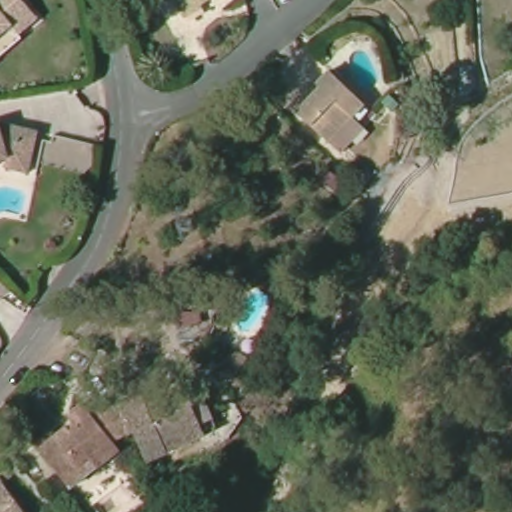pool: (341, 43, 386, 97), (233, 287, 275, 338), (1, 179, 33, 222)
